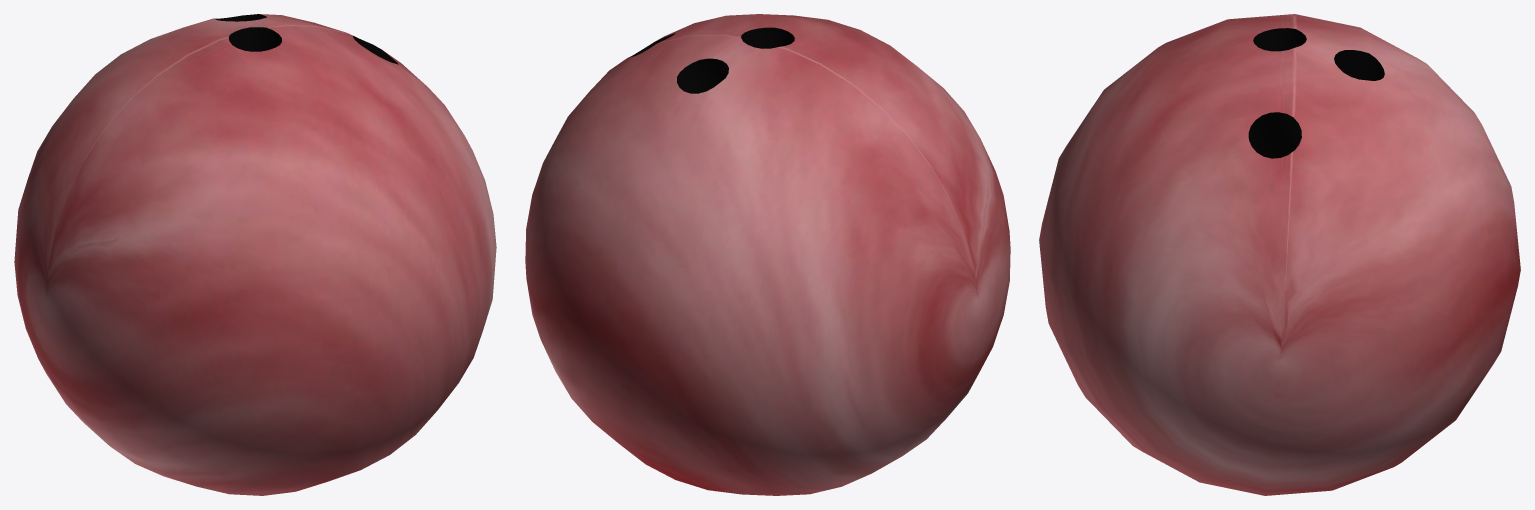
Rendered from NewBall.fbx.
3 views of the same model, side by side, from view 1: azimuth 30°, elevation 25°; view 2: azimuth 150°, elevation 25°; view 3: azimuth 270°, elevation 25° (orthographic).
Parts seen in each view (by area): view 1: icoBall; view 2: icoBall; view 3: icoBall.
Boxes of the visible parts, box(x1,y1,x2,y2) form: icoBall: box(14, 14, 496, 495); icoBall: box(525, 14, 1010, 495); icoBall: box(1039, 14, 1520, 495).
Bounding box in the file's own units: 4.31 × 4.29 × 4.31.
